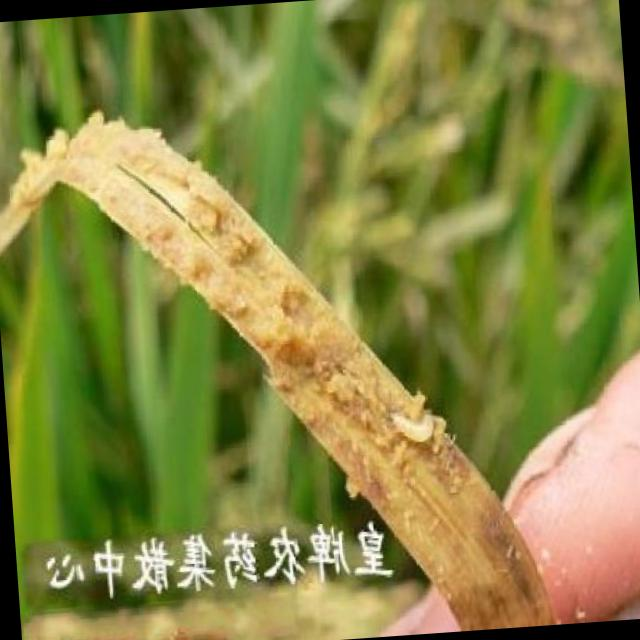whorl-maggot: (380, 400, 443, 450)
